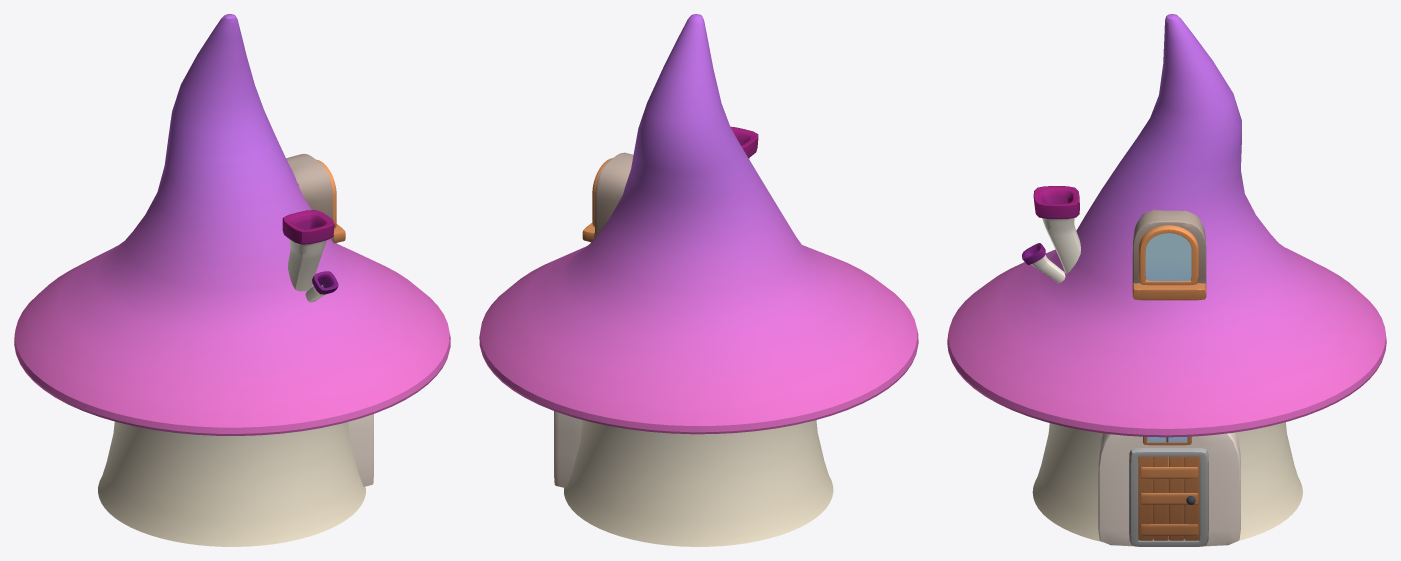
The model's file is Huisjes hat.fbx.
The picture shows the model from 3 angles, left to right: view 1: azimuth 30°, elevation 25°; view 2: azimuth 150°, elevation 25°; view 3: azimuth 270°, elevation 25°; orthographic projection.
Visible parts, largest first — view 1: Cylinder.011, Cylinder, Cube.047, Cube.014, Cube.013, Cube.048; view 2: Cylinder.011, Cylinder, Cube.014, Cube.013; view 3: Cylinder.011, Cylinder, Cube.013, Cylinder.015, Cube.014, Cylinder.016, Cube.047, Cylinder.018, Cylinder.017, Cube.048, Cylinder.013, Cylinder.014 (+1 smaller).
Part boxes in pixels (x1,y1,x2,y2): Cylinder.011: [14, 14, 450, 435]; Cylinder: [98, 421, 365, 546]; Cube.047: [282, 210, 334, 291]; Cube.014: [286, 154, 345, 243]; Cube.013: [348, 414, 373, 486]; Cube.048: [305, 271, 338, 302]; Cylinder.011: [479, 14, 918, 434]; Cylinder: [564, 420, 833, 546]; Cube.014: [582, 152, 633, 242]; Cube.013: [554, 411, 582, 488]; Cylinder.011: [947, 14, 1386, 437]; Cylinder: [1032, 422, 1302, 542]; Cube.013: [1098, 432, 1240, 546]; Cylinder.015: [1138, 456, 1199, 540]; Cube.014: [1132, 210, 1206, 300]; Cylinder.016: [1129, 448, 1208, 546]; Cube.047: [1033, 186, 1080, 273]; Cylinder.018: [1145, 233, 1191, 281]; Cylinder.017: [1138, 225, 1198, 285]; Cube.048: [1022, 243, 1065, 283]; Cylinder.013: [1140, 466, 1198, 478]; Cylinder.014: [1140, 524, 1198, 535].
Size of the model in its own units: 534 by 640 by 533.
